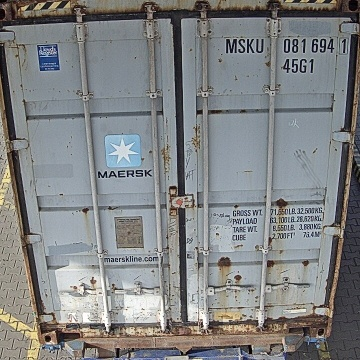serial_id: (226, 38, 348, 53)
